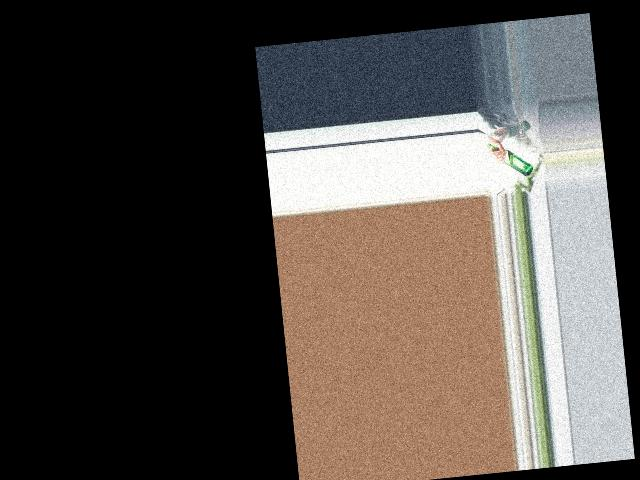beer: (487, 138, 534, 179)
